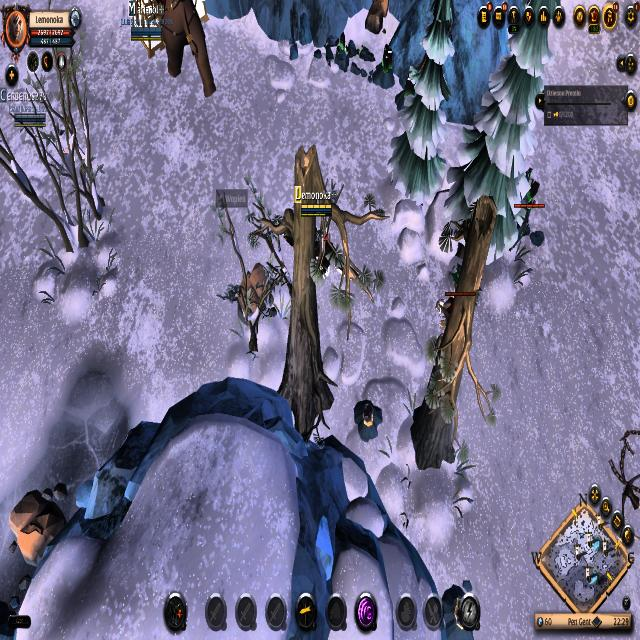ore tier 2: (352, 395, 384, 446)
ore tier 3: (373, 40, 398, 97)
rock tier 2: (8, 483, 69, 575)
